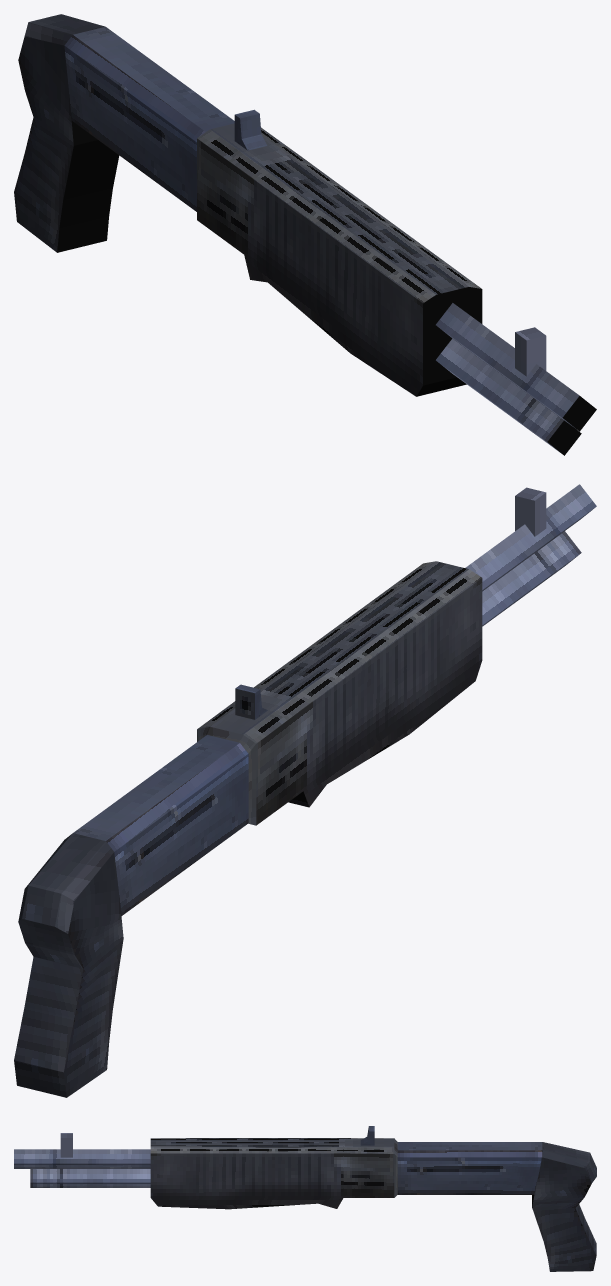
Rendered from Spas.glb.
The picture shows the model from 3 angles, top to bottom: view 1: azimuth 30°, elevation 25°; view 2: azimuth 150°, elevation 25°; view 3: azimuth 270°, elevation 25°; orthographic projection. The views are drawn at different scales.
Visible parts, largest first — view 1: Cube, Cube.001, Cube.002, Cube.003, Cube.004; view 2: Cube, Cube.001, Cube.002, Cube.003, Cube.004; view 3: Cube, Cube.001, Cube.002, Cube.003.
Part boxes in pixels (x1,y1,x2,y2): Cube: (14, 14, 482, 396); Cube.001: (436, 303, 596, 431); Cube.002: (436, 338, 581, 455); Cube.003: (515, 327, 546, 376); Cube.004: (234, 109, 267, 150); Cube: (14, 561, 482, 1097); Cube.001: (465, 484, 596, 590); Cube.002: (482, 531, 581, 626); Cube.003: (515, 487, 546, 536); Cube.004: (235, 684, 267, 719); Cube: (150, 1138, 596, 1271); Cube.001: (14, 1149, 150, 1168); Cube.002: (30, 1168, 150, 1187); Cube.003: (60, 1133, 72, 1157).
Size of the model in its own units: 1.58 by 6.47 by 25.01.
Materials: 1 (1 with a texture image).
